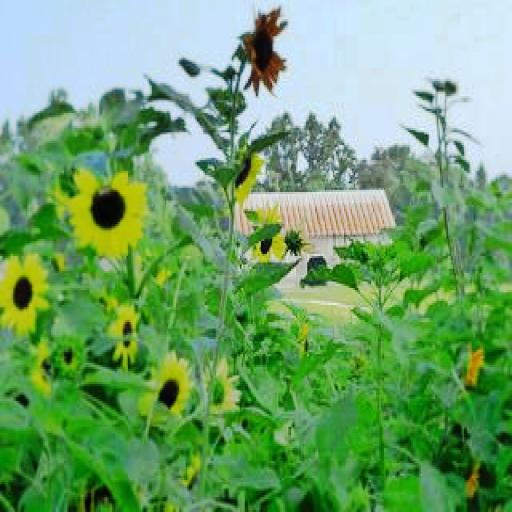sunflower: (66, 169, 148, 256), (144, 352, 189, 425)
